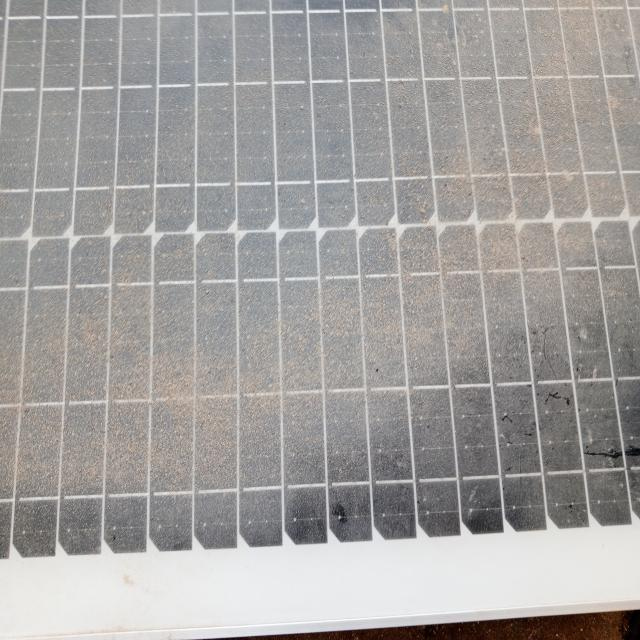Anomaly Solar Panel: (3, 0, 638, 553)
Surface Contaminant: (3, 6, 639, 540)
